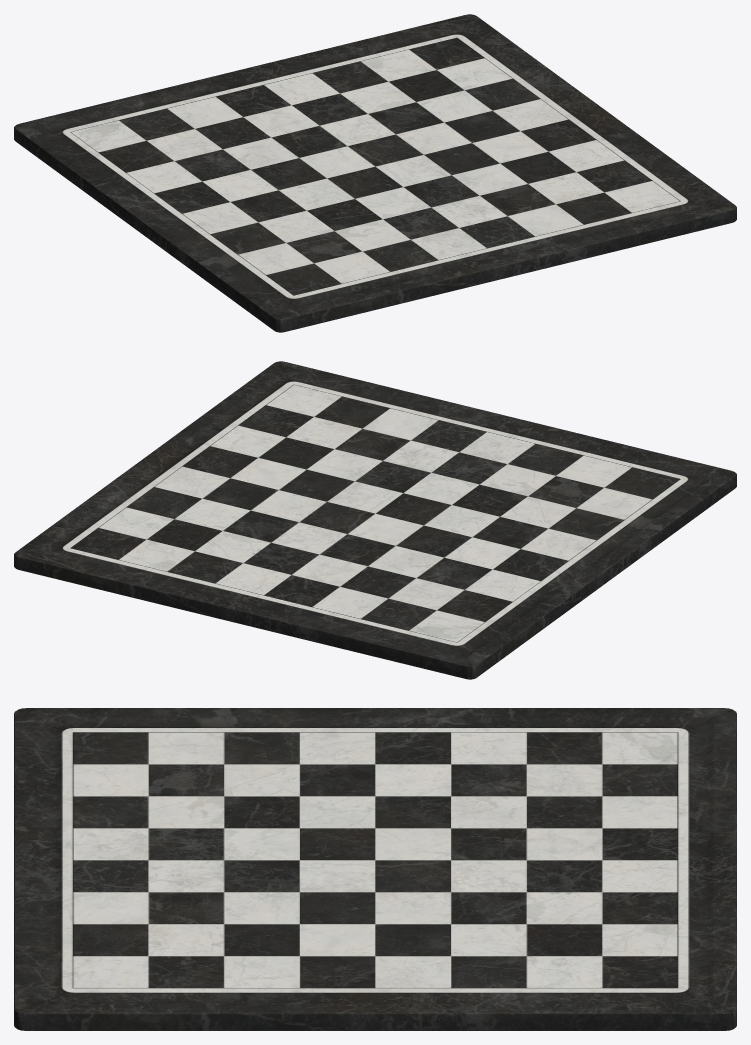
Rendered from chess-set-1k-board.glb.
The picture shows the model from 3 angles, top to bottom: view 1: azimuth 30°, elevation 25°; view 2: azimuth 150°, elevation 25°; view 3: azimuth 270°, elevation 25°; orthographic projection. The views are drawn at different scales.
Visible parts, largest first — view 1: board; view 2: board; view 3: board.
Boxes of the visible parts, x1,y1,x2,y2 form: board: (14, 14, 736, 332); board: (14, 361, 736, 679); board: (14, 708, 736, 1030).
Size of the model in its own units: 0.5532 by 0.0173 by 0.5532.
Materials: 1 (1 with a texture image).
